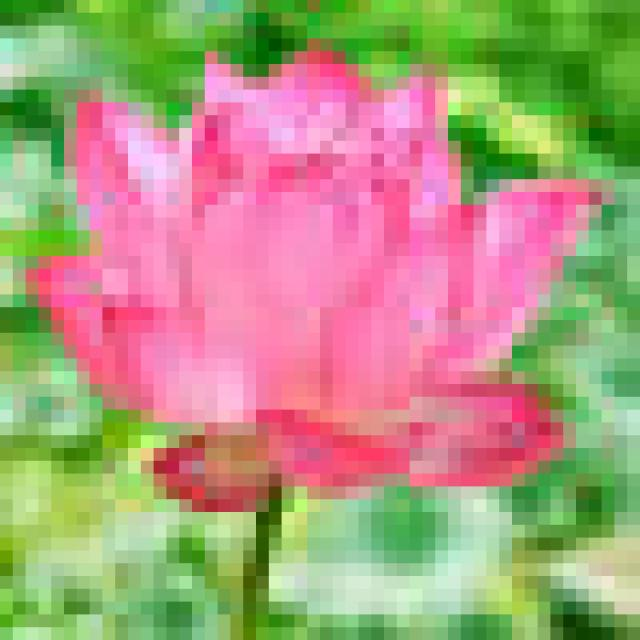lotus: (17, 32, 620, 591)
